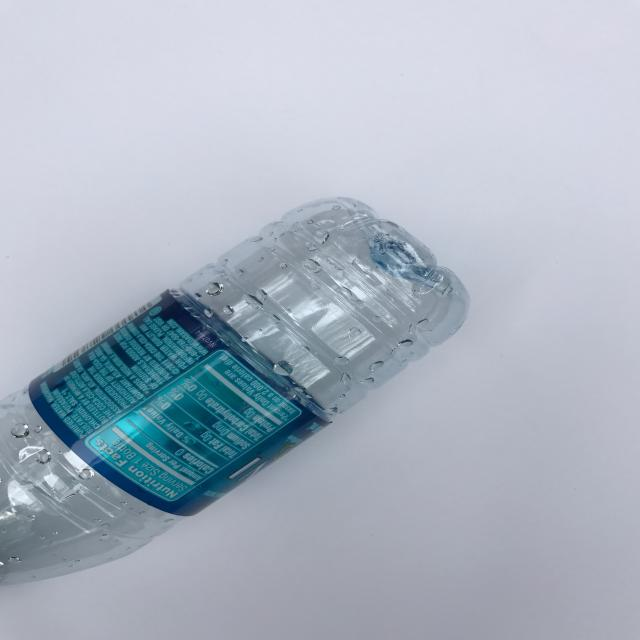plastic: (0, 195, 471, 586)
